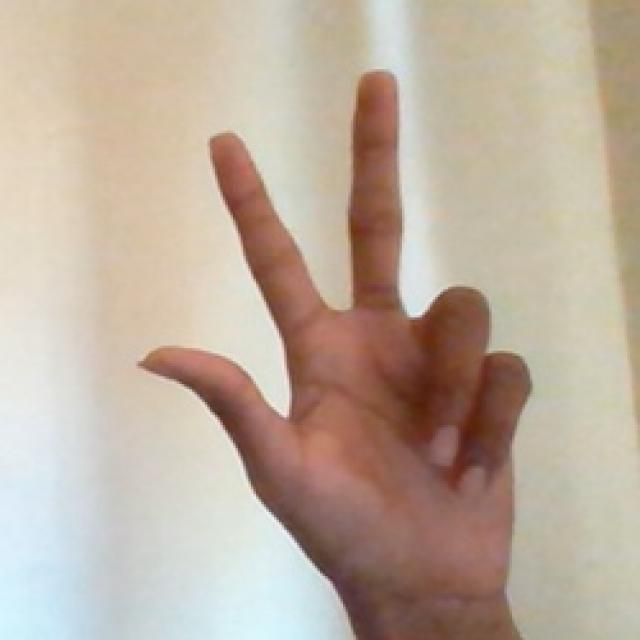Numeric-3: (150, 71, 512, 618)
